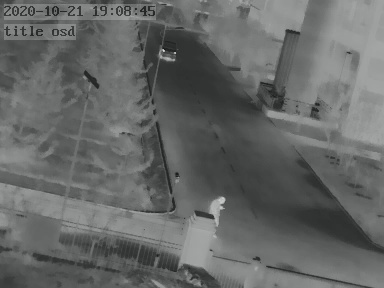person: (209, 196, 225, 225)
vehicle: (159, 40, 177, 61)
